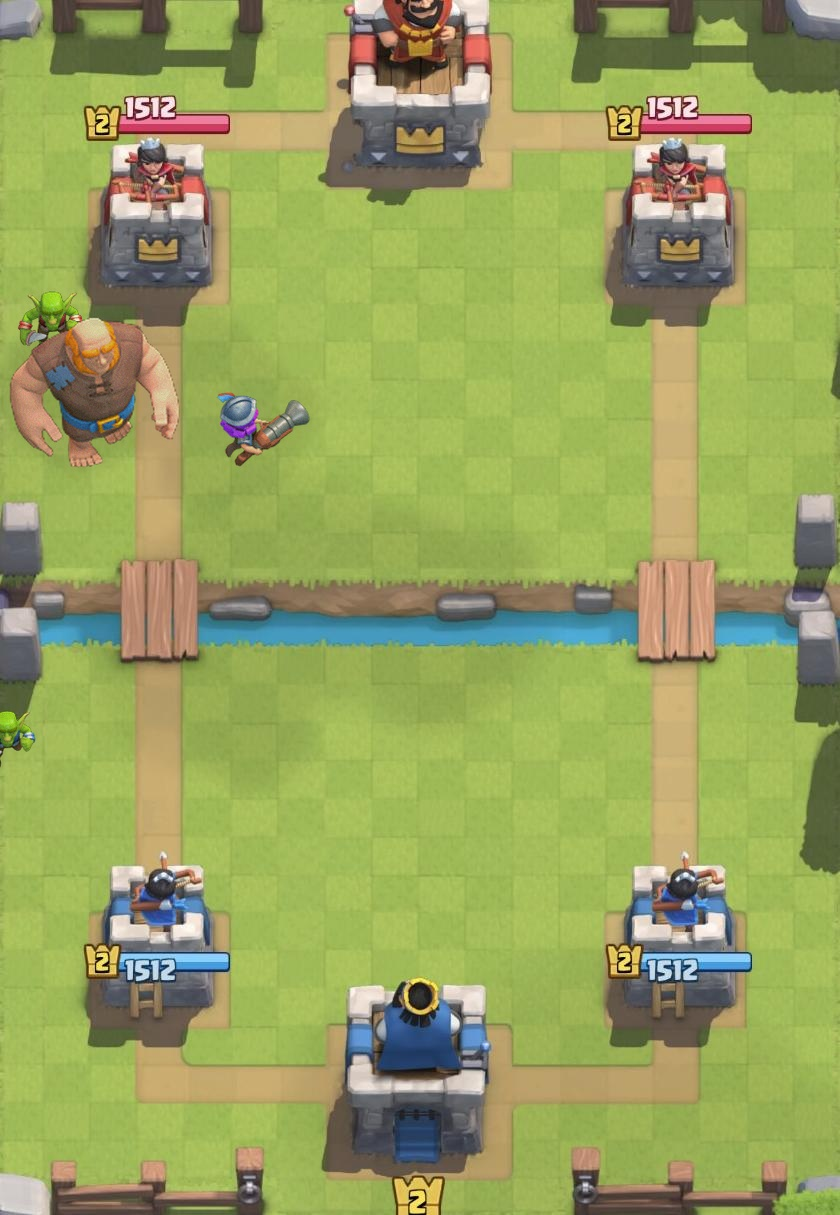giant_ally: (9, 316, 180, 468)
goblin_ally: (0, 710, 36, 768)
goblin_enemy: (17, 291, 83, 355)
musketeer_ally: (216, 392, 310, 467)
